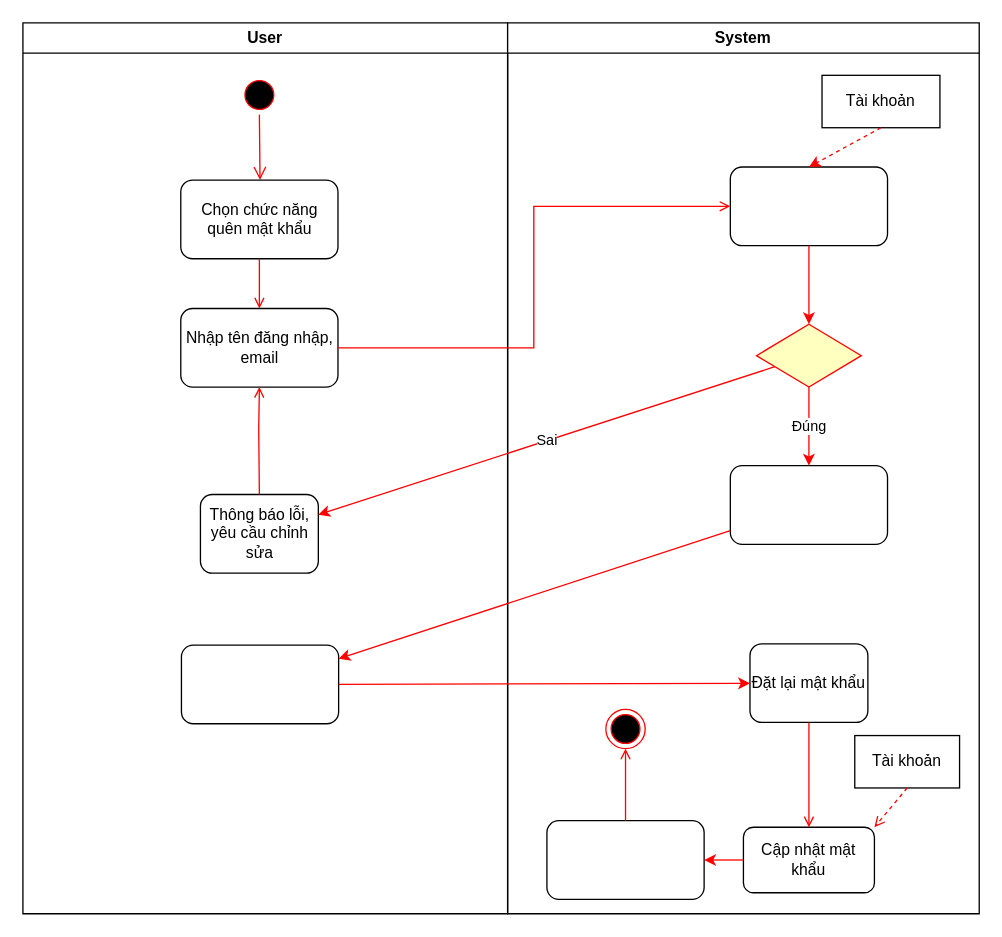
Some shapes in this 1002 by 937 pixel diagram are drawn without their labels. The centre of each missing label's shape, as x and y in pixels:
"Gửi email yêu cầu xác nhận" belongs at (808,504).
"Kiểm tra thông tin" belongs at (808,206).
"Thông báo thành công" belongs at (625,859).
"Xác nhận đặt lại mật khẩu" belongs at (259,684).
